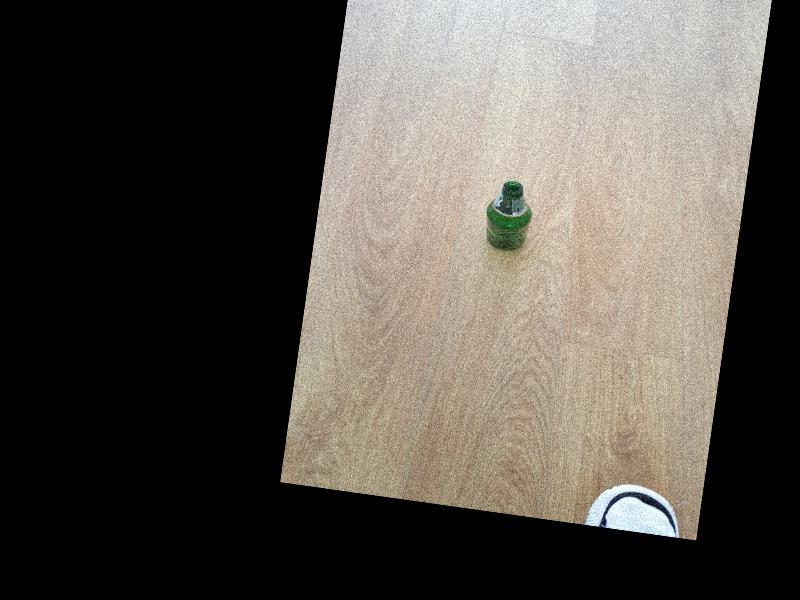Beer: (482, 178, 539, 254)
